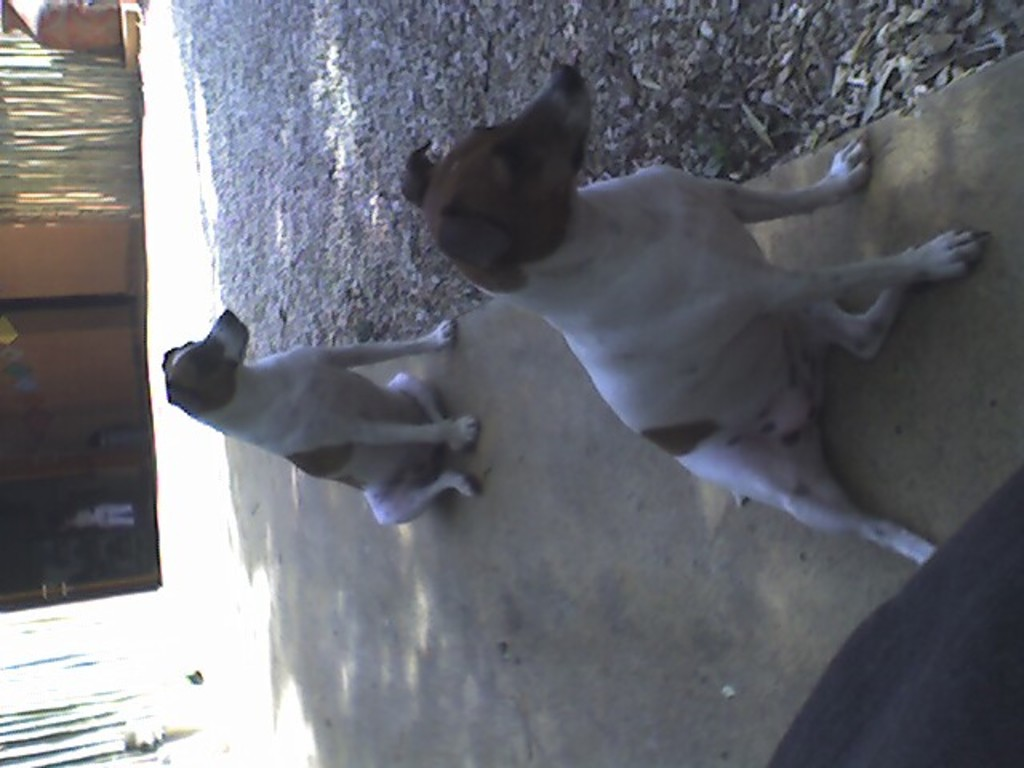Animal: (387, 63, 989, 575), (160, 315, 480, 531)
